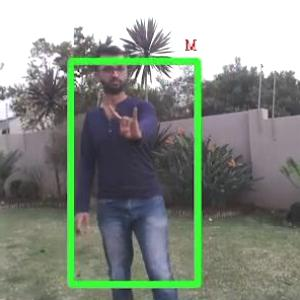takeoff-hand: (104, 93, 147, 140)
